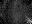person: (23, 15, 31, 23)
